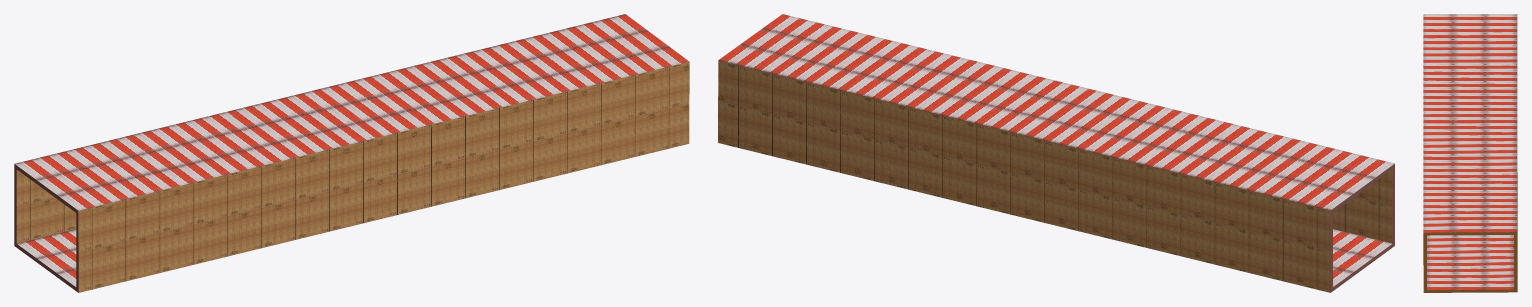
The model's file is SAMRTrack-29.fbx.
3 renders of one model, left to right at view 1: azimuth 30°, elevation 25°; view 2: azimuth 150°, elevation 25°; view 3: azimuth 270°, elevation 25°, orthographic. The views are drawn at different scales.
Parts seen in each view (by area): view 1: SAMRTrack-29; view 2: SAMRTrack-29; view 3: SAMRTrack-29.
Part boxes in pixels (x1,y1,x2,y2): SAMRTrack-29: (14, 14, 689, 292); SAMRTrack-29: (718, 14, 1394, 292); SAMRTrack-29: (1423, 14, 1517, 292).
Bounding box in the file's own units: 202 × 26.2 × 36.84.
Materials: 2 (2 with a texture image).
